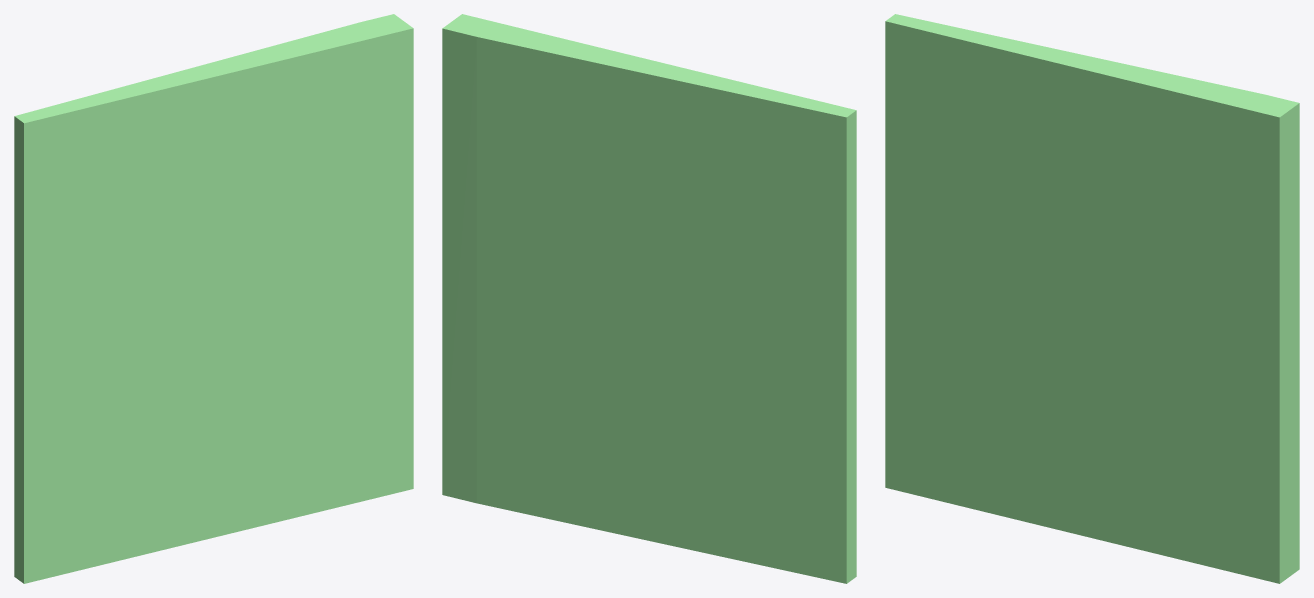
The model's file is rambler_robot_base_coll_21.dae.
3 renders of one model, left to right at view 1: azimuth 30°, elevation 25°; view 2: azimuth 150°, elevation 25°; view 3: azimuth 330°, elevation 25°, orthographic.
Parts seen in each view (by area): view 1: Node_0x7fe0fc4d5380; view 2: Node_0x7fe0fc4d5380; view 3: Node_0x7fe0fc4d5380.
Boxes of the visible parts, x1,y1,x2,y2 form: Node_0x7fe0fc4d5380: [14, 14, 413, 583]; Node_0x7fe0fc4d5380: [442, 14, 856, 583]; Node_0x7fe0fc4d5380: [885, 14, 1299, 583].
Size of the model in its own units: 0.3148 by 0.3558 by 0.0274.
